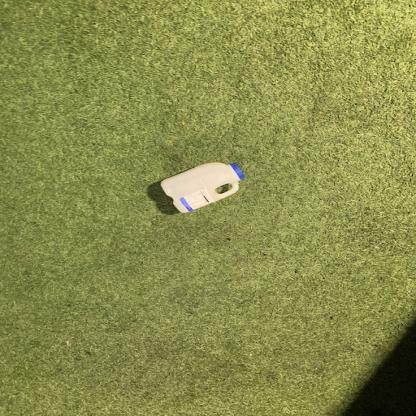trash: (159, 161, 245, 216)
